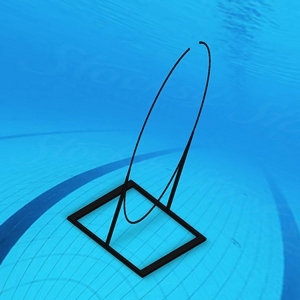circle: (66, 38, 222, 280)
